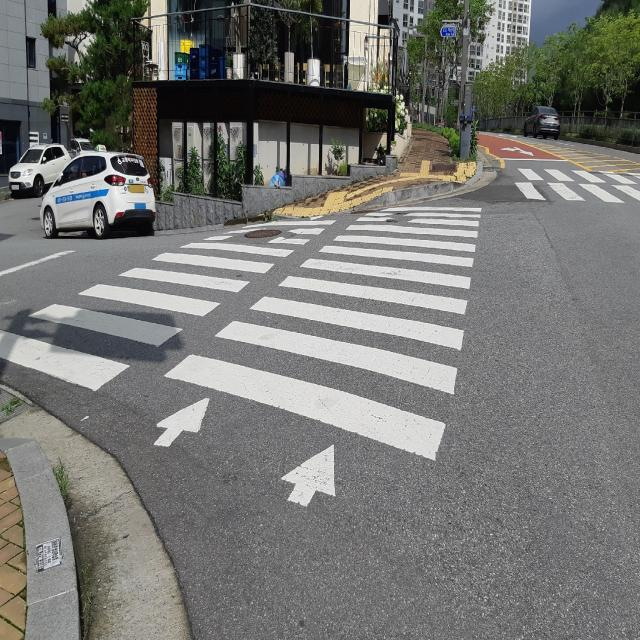횡단보도: (0, 204, 483, 508), (501, 164, 640, 205)
